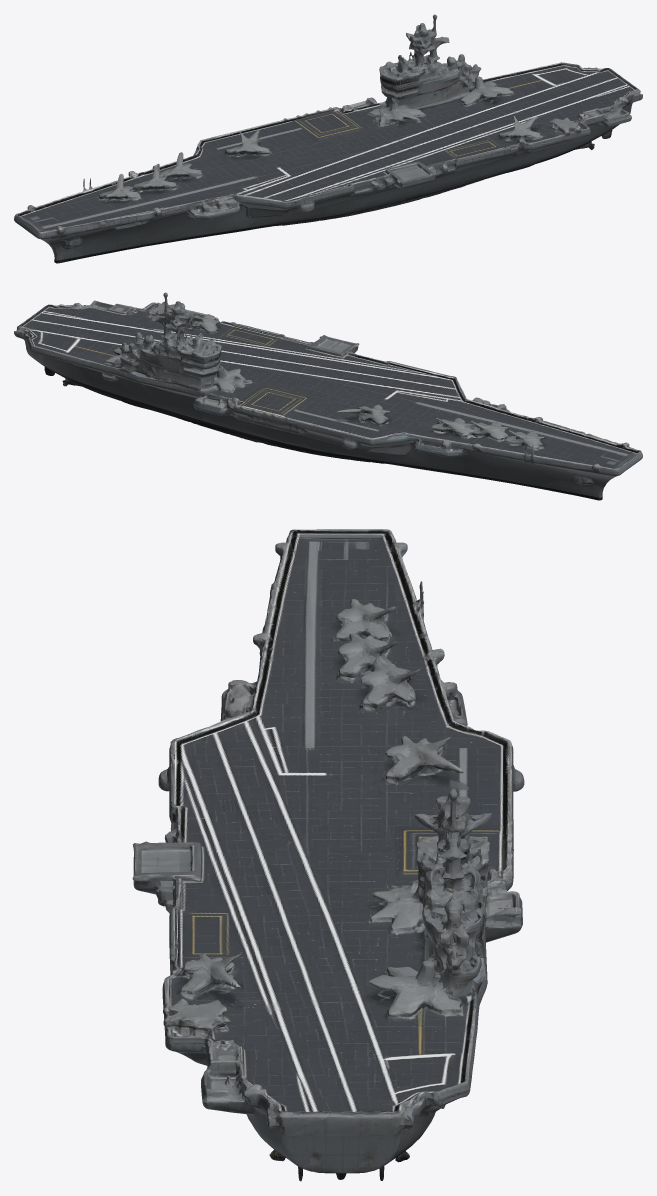
The model's file is nimitz-carrier-meshy6-web-v1.glb.
The picture shows the model from 3 angles, top to bottom: view 1: azimuth 30°, elevation 25°; view 2: azimuth 150°, elevation 25°; view 3: azimuth 270°, elevation 25°; orthographic projection. The views are drawn at different scales.
Size of the model in its own units: 1.9 by 0.3957 by 0.5365.
Materials: 1 (1 with a texture image).
